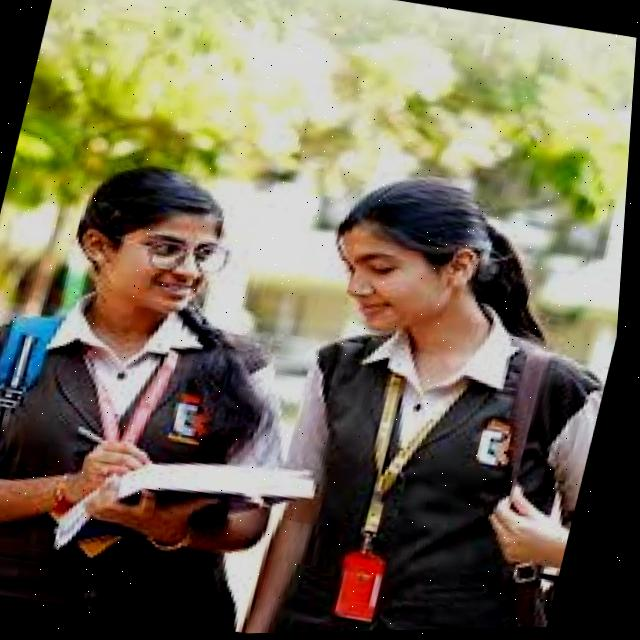id_card: (326, 350, 460, 630)
